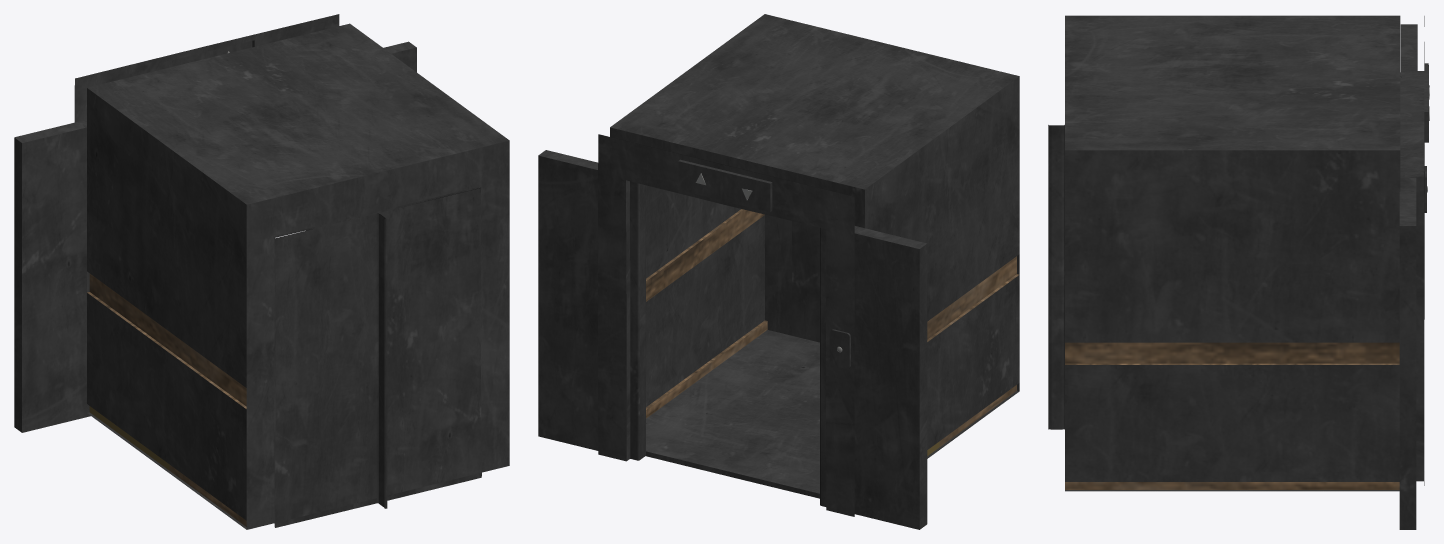
The model's file is elevator.glb.
The picture shows the model from 3 angles, left to right: view 1: azimuth 30°, elevation 25°; view 2: azimuth 150°, elevation 25°; view 3: azimuth 270°, elevation 25°; orthographic projection. The views are drawn at different scales.
Parts seen in each view (by area): view 1: Main Body; view 2: Main Body; view 3: Main Body.
Part boxes in pixels (x1,y1,x2,y2): Main Body: [14, 14, 509, 529]; Main Body: [538, 14, 1019, 529]; Main Body: [1048, 15, 1429, 529].
Size of the model in its own units: 213 by 172 by 171.
Materials: 5 (4 with a texture image).
